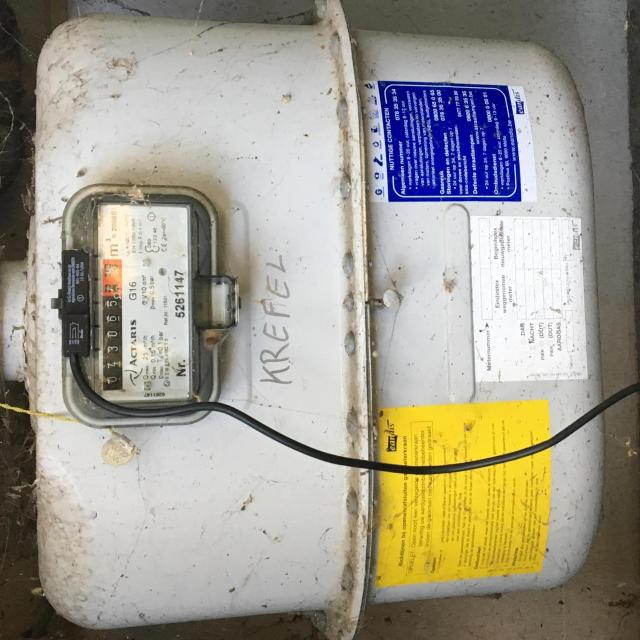gaz_meter: (94, 198, 194, 405)
indication: (103, 260, 123, 391)
